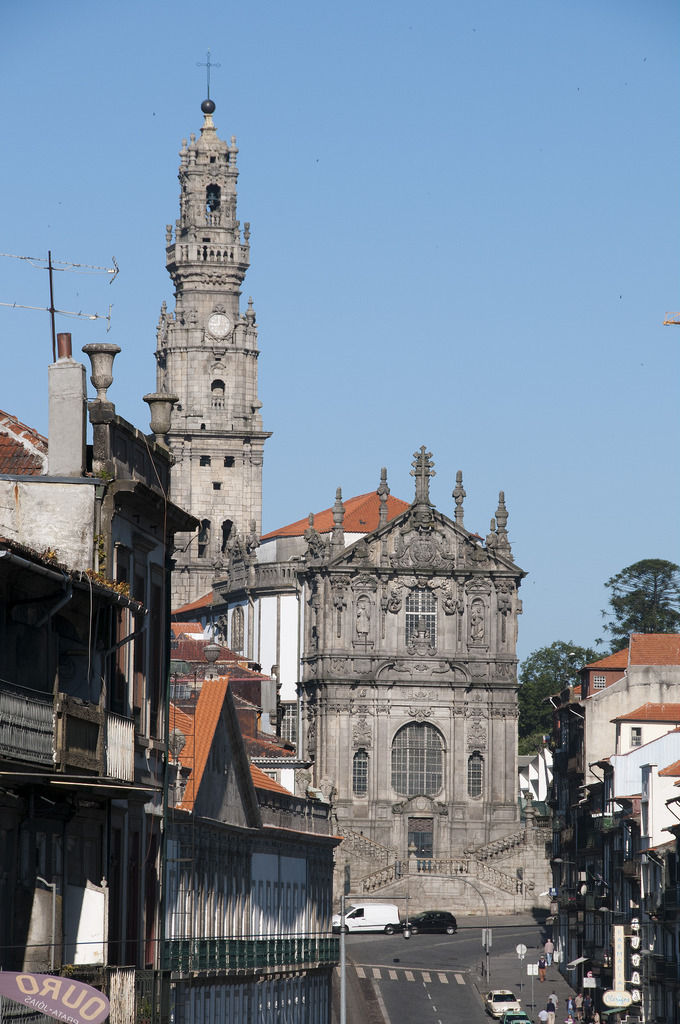clerigos: (152, 47, 275, 616)
